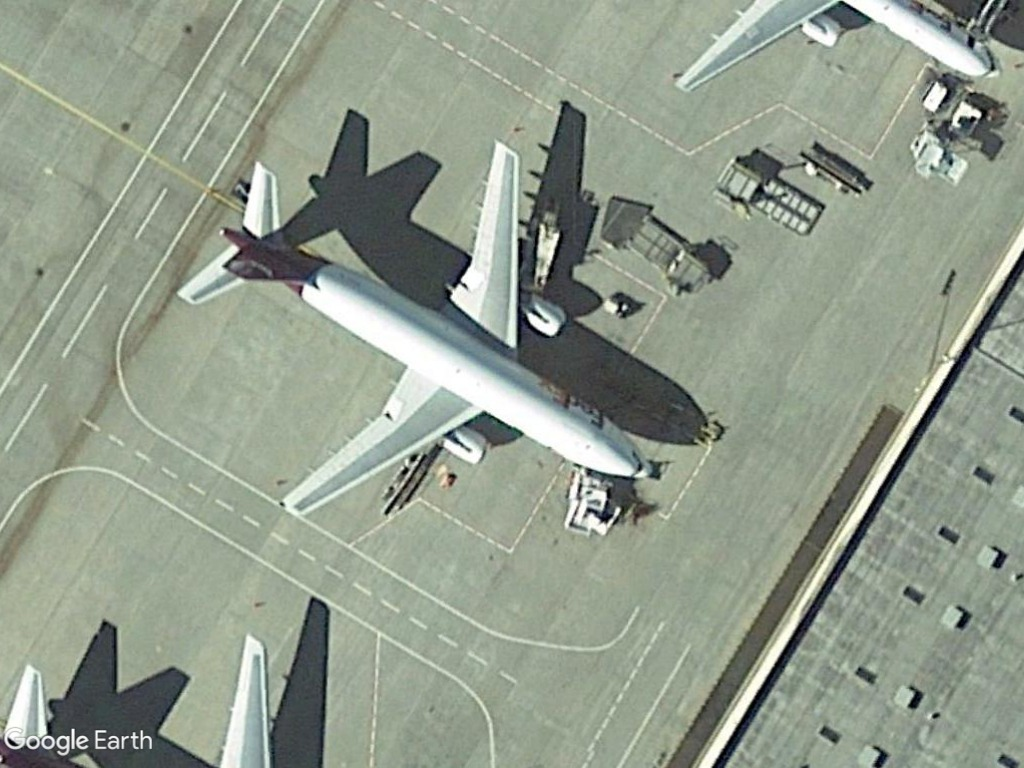airliner: (169, 135, 664, 522)
